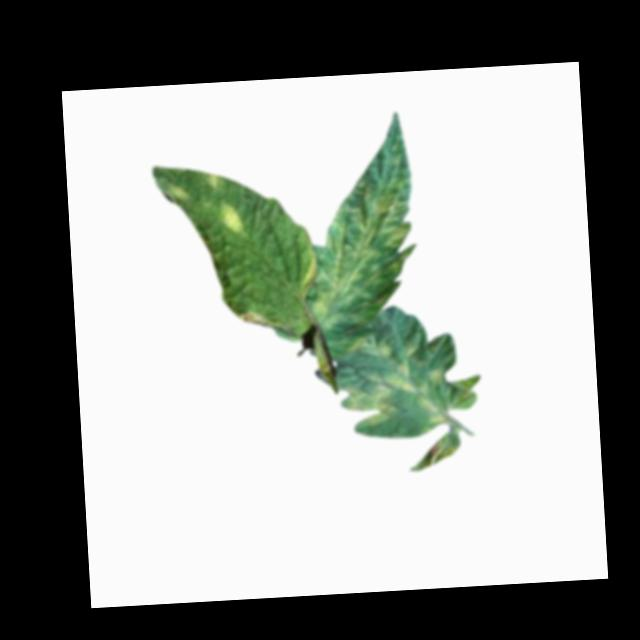Leaf_Mold: (298, 110, 423, 335), (338, 328, 445, 428), (237, 309, 285, 330), (220, 203, 248, 234), (167, 177, 191, 203)
